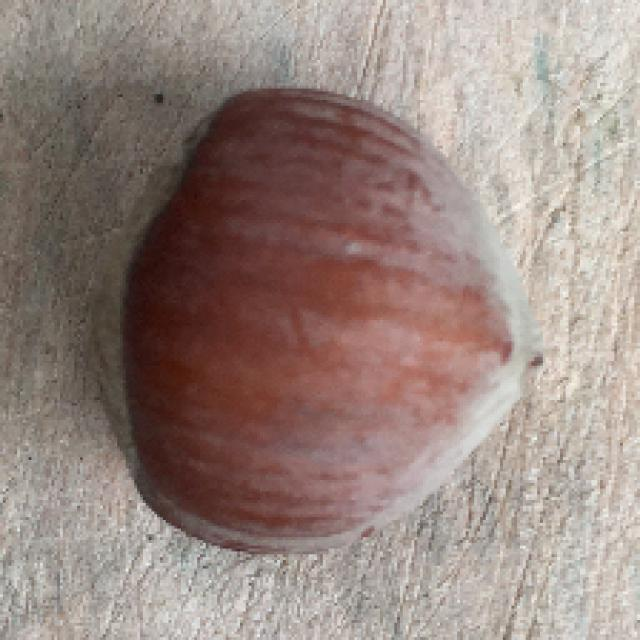qualityHazelnut: (80, 83, 542, 563)
